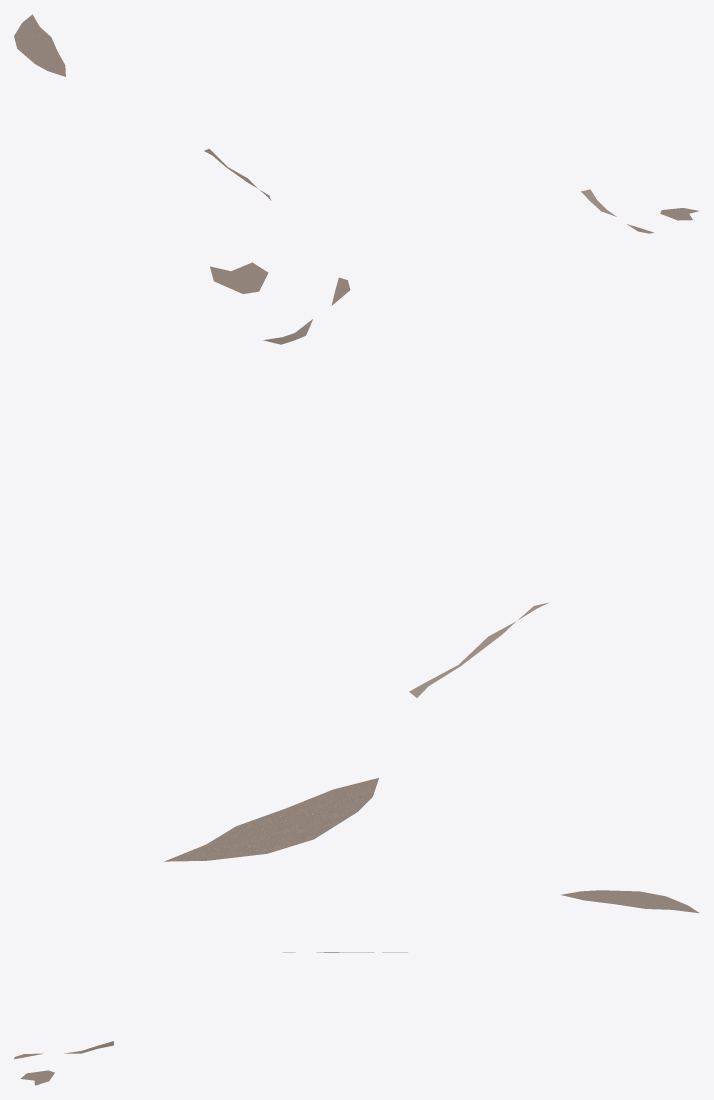
File: kd_stage_1364a3_11_15.glb
The picture shows the model from 3 angles, top to bottom: view 1: azimuth 30°, elevation 25°; view 2: azimuth 150°, elevation 25°; view 3: azimuth 270°, elevation 25°; orthographic projection. The views are drawn at different scales.
Visible parts, largest first — view 1: kd_stage_1364a3_11_15; view 2: kd_stage_1364a3_11_15; view 3: kd_stage_1364a3_11_15.
Boxes of the visible parts, box(x1,y1,x2,y2) form: kd_stage_1364a3_11_15: box(14, 14, 698, 233); kd_stage_1364a3_11_15: box(164, 262, 549, 861); kd_stage_1364a3_11_15: box(14, 890, 699, 1085).
Size of the model in its own units: 85.12 by 6.75 by 142.
Materials: 1 (1 with a texture image).
